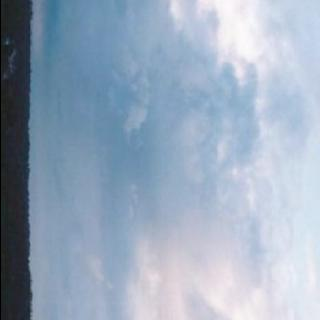Stratocumulus: (26, 0, 320, 320)
